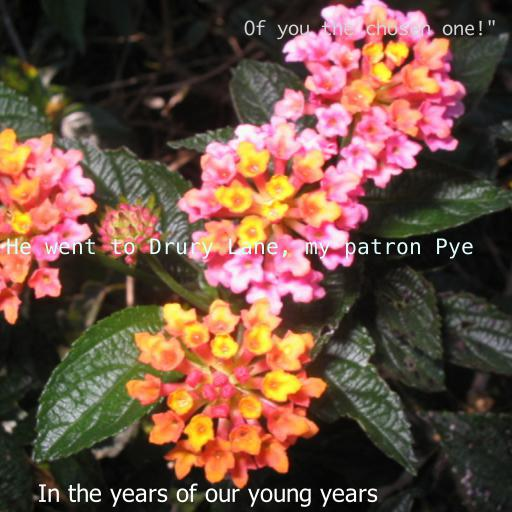Menlo: (6, 238, 474, 259)
Monaco: (243, 20, 497, 40)
Tahoma: (38, 483, 378, 507)
